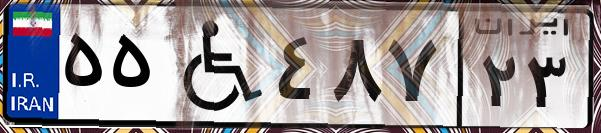2: (475, 38, 525, 113)
3: (525, 38, 570, 115)
4: (270, 28, 330, 110)
5: (57, 26, 110, 100), (110, 28, 158, 98)
7: (385, 28, 445, 110)
8: (330, 28, 385, 110)
ژ (معلولین و جانبازان): (158, 12, 270, 120)
